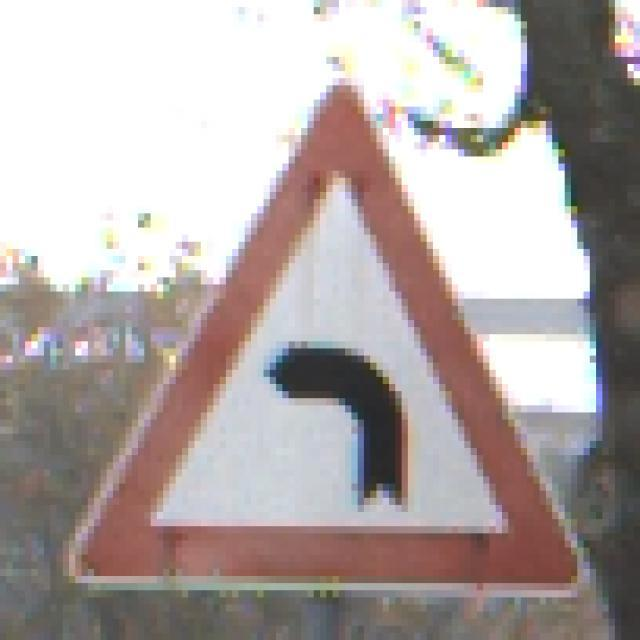left hand curve: (70, 75, 585, 587)
